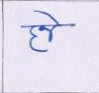e_matra: (33, 10, 62, 24)
